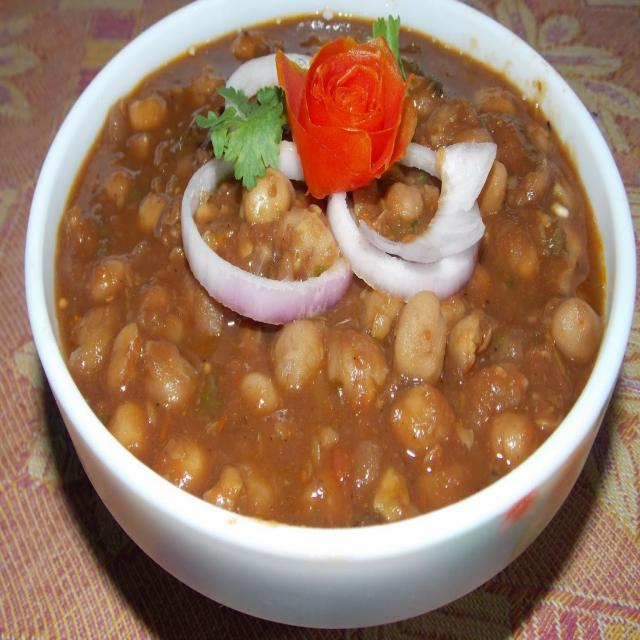Chole: (56, 13, 604, 528)
